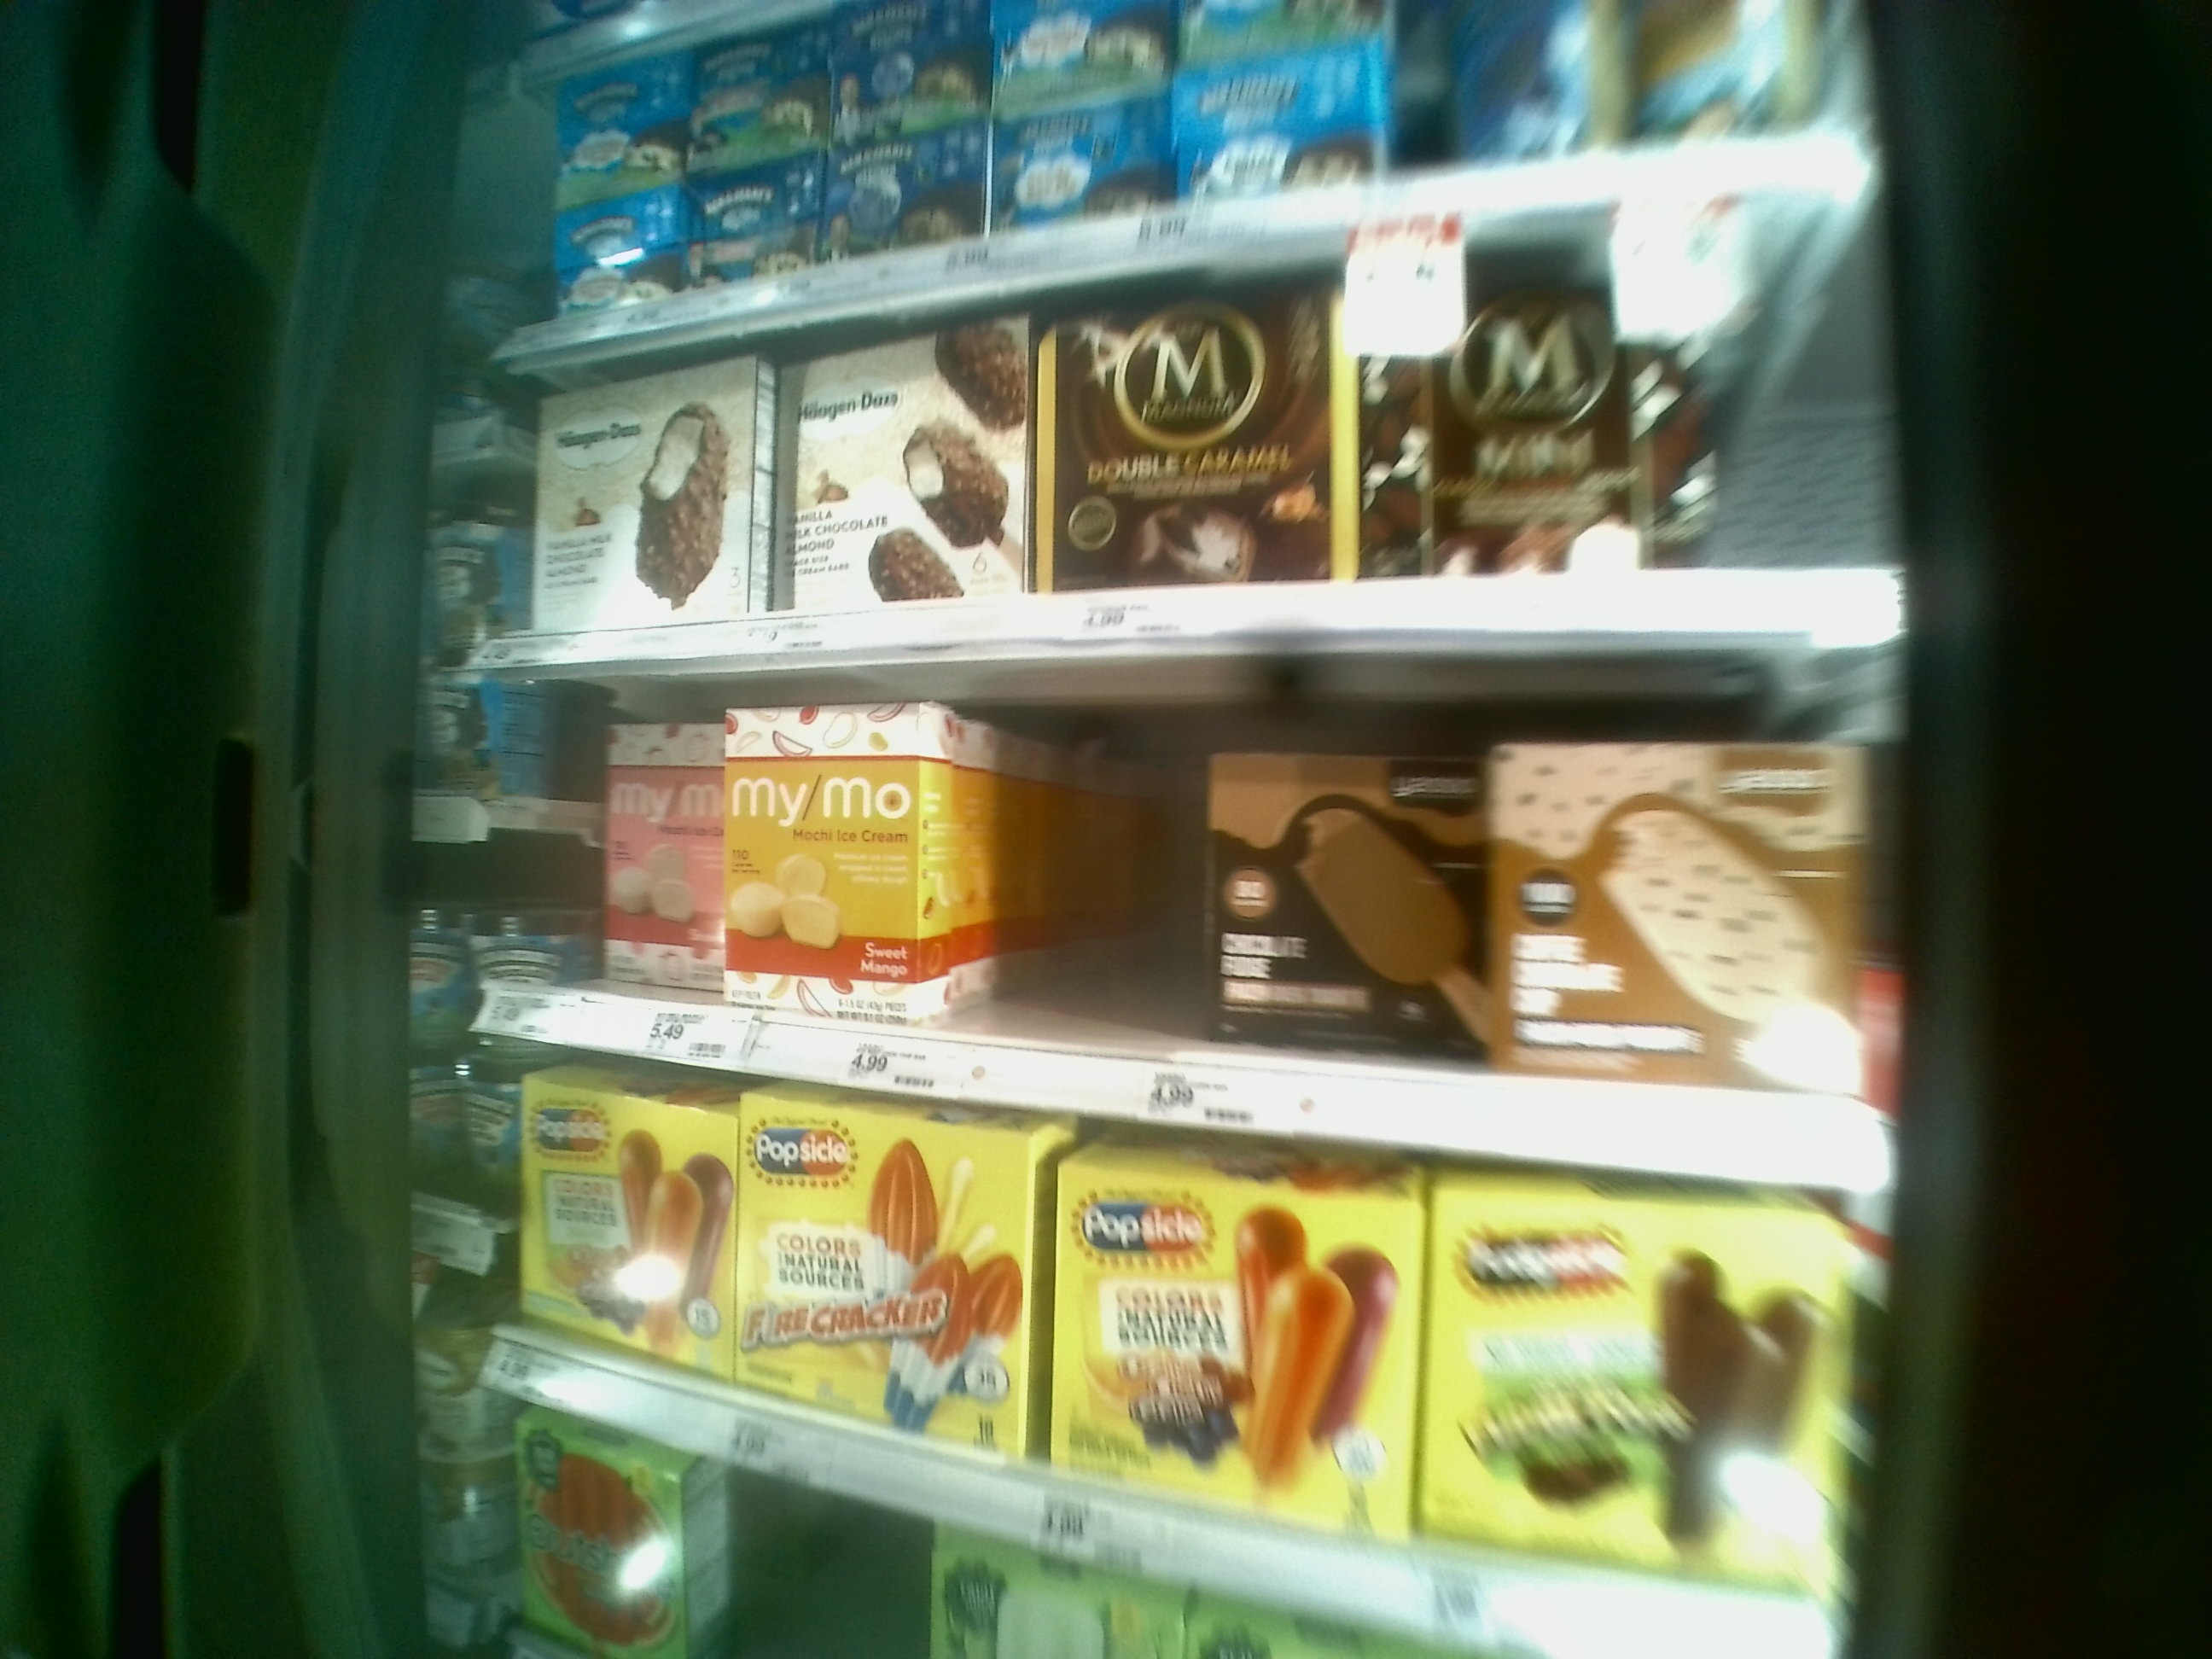shelf: (479, 652, 1895, 1180), (500, 185, 1890, 647)
